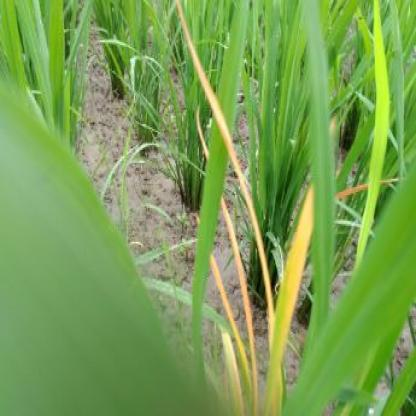Tungro: (201, 1, 284, 392)
